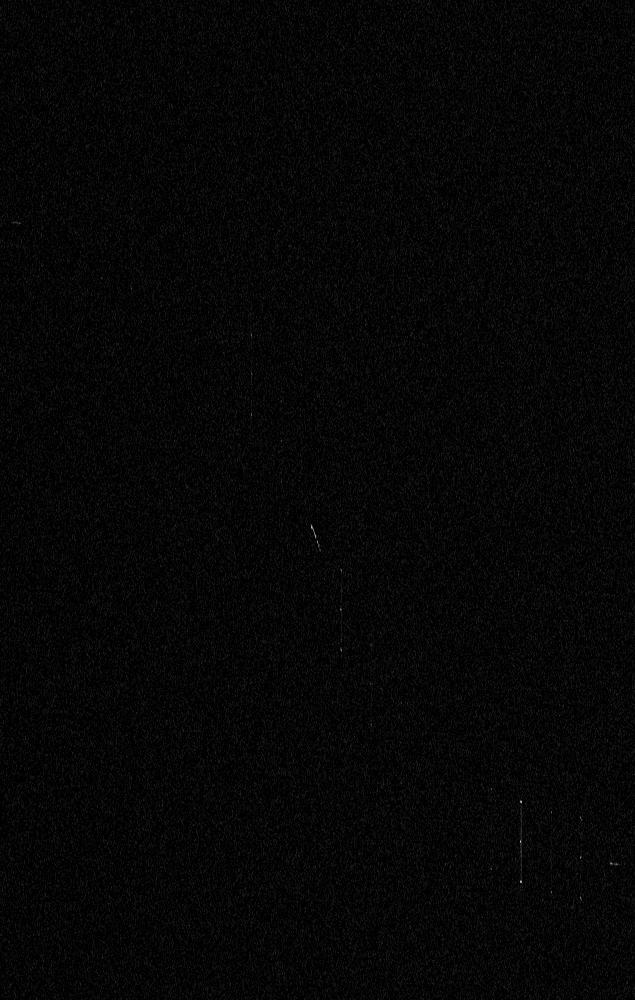signal: (0, 0, 634, 999)
